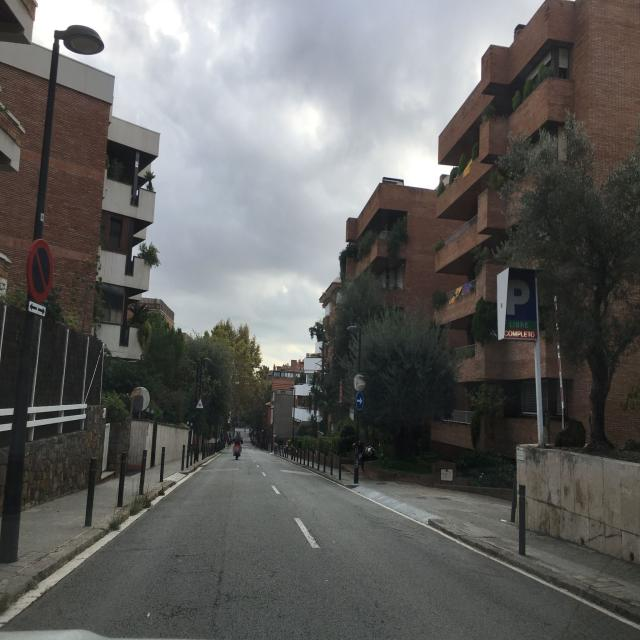forb_stopping: (28, 228, 51, 300)
